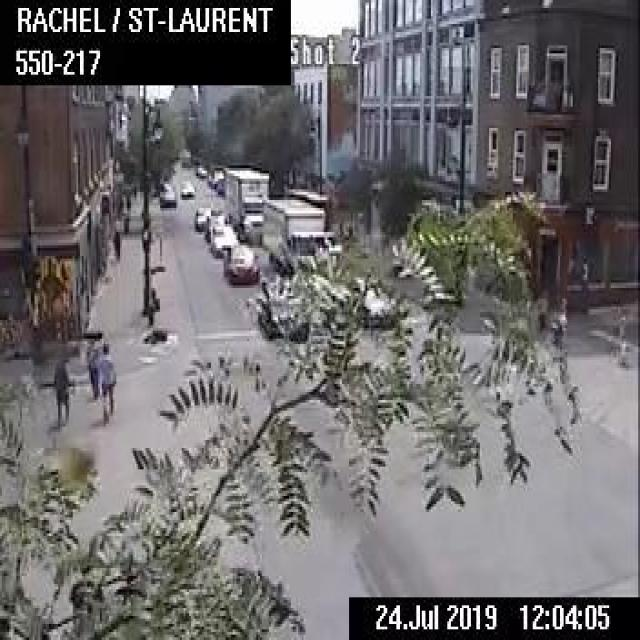pedestrian: (51, 347, 69, 424), (98, 340, 114, 423), (84, 336, 100, 398)
vehicle: (265, 196, 325, 280), (222, 165, 268, 242), (258, 277, 308, 339), (347, 269, 395, 331), (221, 243, 257, 284), (210, 224, 237, 253), (204, 213, 223, 240), (156, 180, 175, 206), (192, 205, 210, 229), (178, 178, 194, 196), (198, 167, 206, 176)
